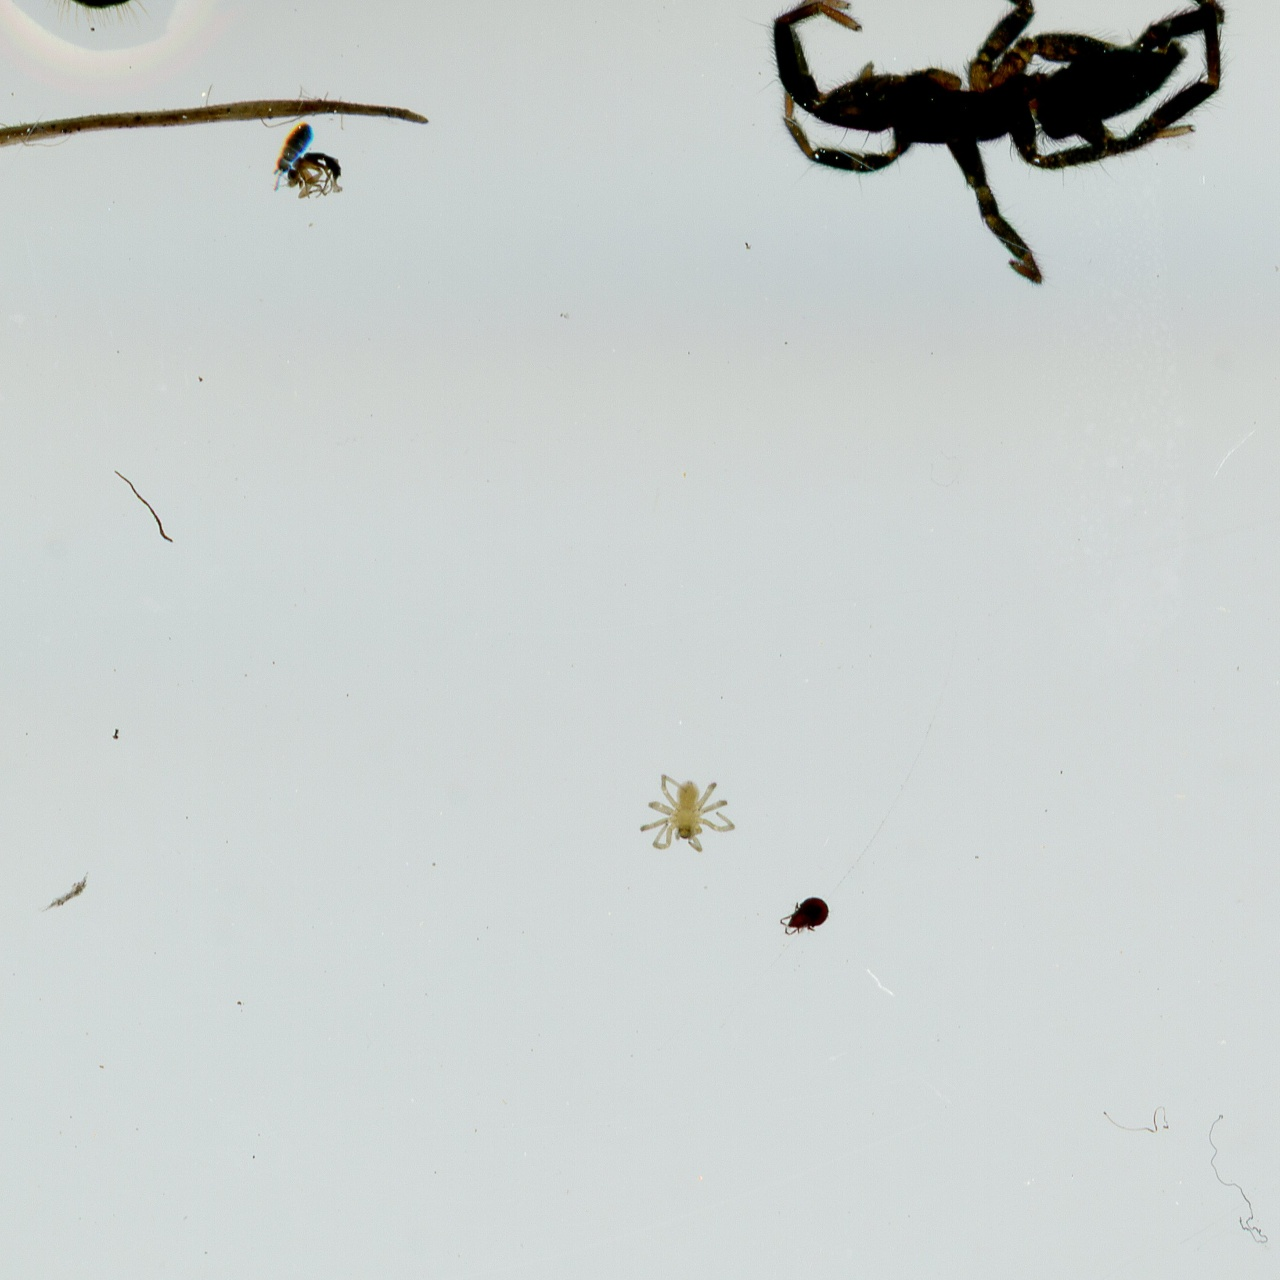arthropod: (739, 0, 1234, 300), (633, 772, 742, 854), (257, 114, 323, 198), (279, 150, 345, 201), (776, 892, 834, 940)
